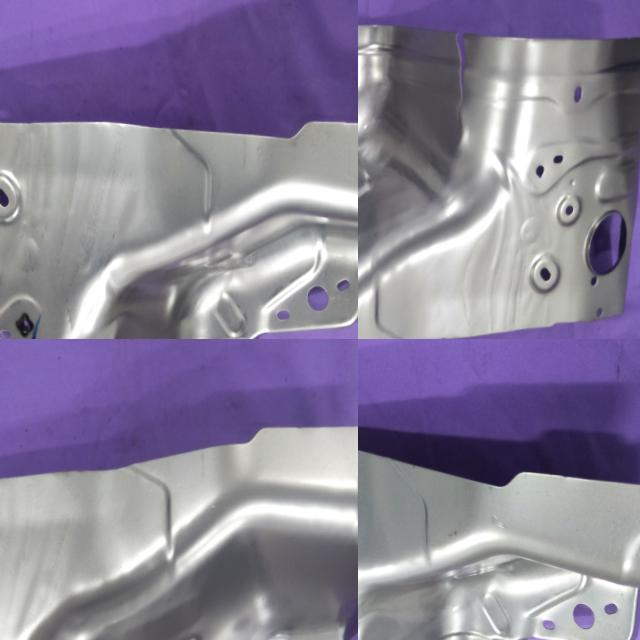Defect: (442, 20, 484, 126)
Healthy: (0, 101, 358, 339), (0, 402, 358, 640), (358, 414, 640, 640)
